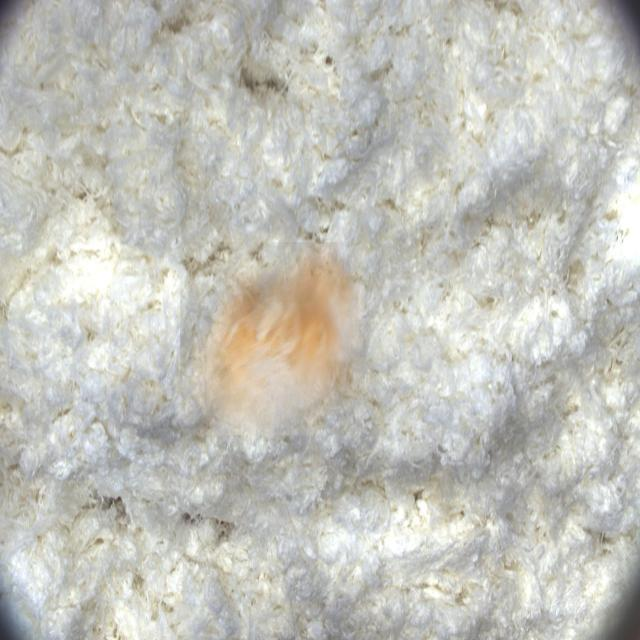dust: (181, 242, 366, 435)
